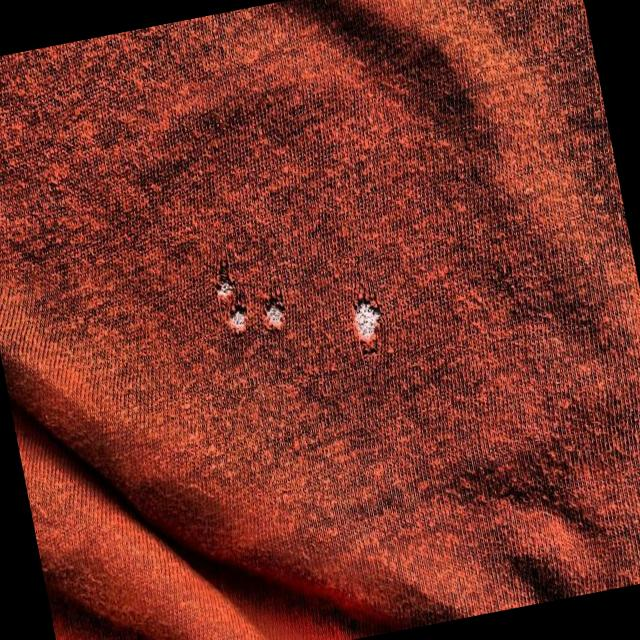cut: (337, 277, 400, 368), (252, 285, 302, 346), (202, 244, 244, 309), (222, 300, 260, 346)
